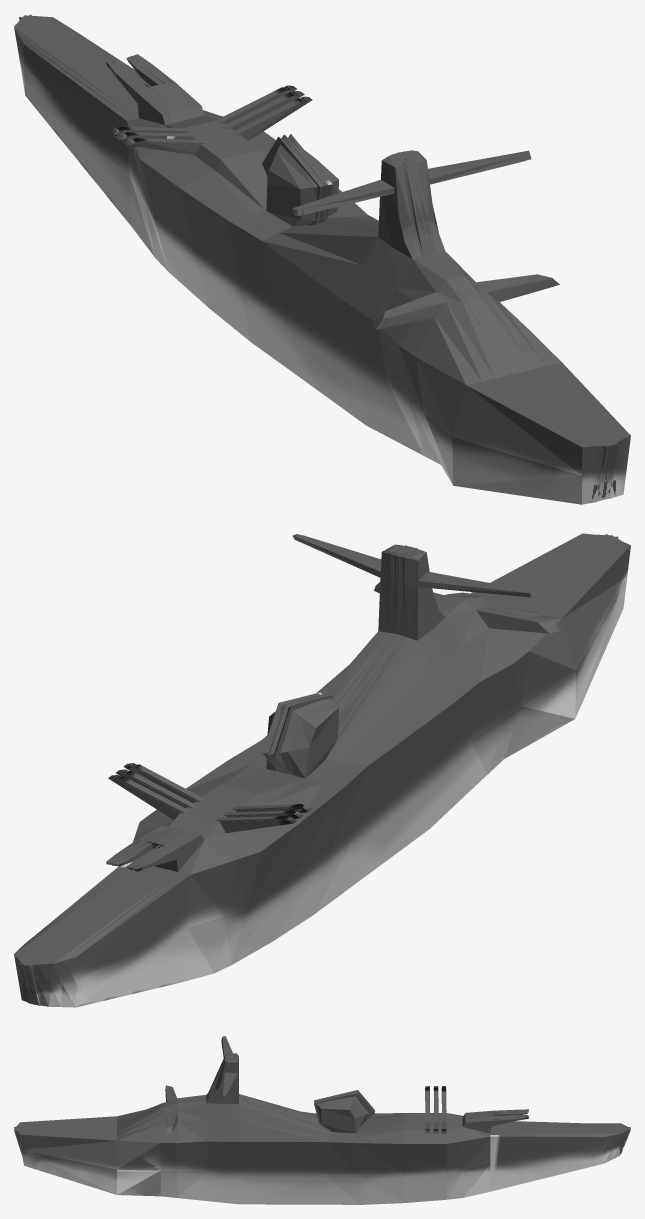
File: battleship-edit2.obj
3 renders of one model, top to bottom at view 1: azimuth 30°, elevation 25°; view 2: azimuth 150°, elevation 25°; view 3: azimuth 270°, elevation 25°, orthographic. The views are drawn at different scales.
Parts seen in each view (by area): view 1: Cube; view 2: Cube; view 3: Cube.
Boxes of the visible parts, bbox=[...] form: Cube: bbox=[14, 14, 630, 504]; Cube: bbox=[14, 533, 630, 1007]; Cube: bbox=[14, 1036, 630, 1204].
Bounding box in the file's own units: 4.74 × 5.13 × 20.41.
Materials: 1 (1 with a texture image).
